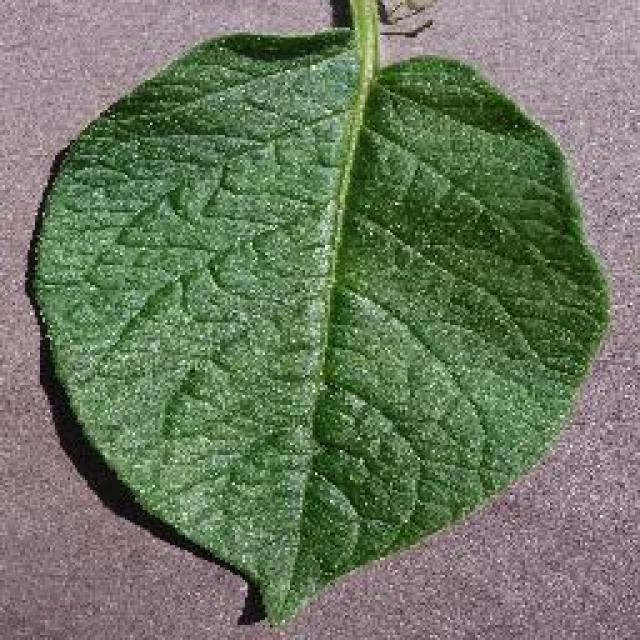Potato___healthy: (23, 0, 616, 632)
